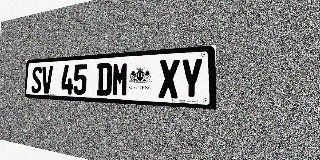4: (61, 65, 74, 95)
5: (73, 64, 87, 95)
D: (96, 63, 112, 96)
M: (112, 62, 129, 97)
S: (31, 66, 42, 93)
V: (41, 66, 53, 94)
X: (158, 59, 180, 99)
Y: (180, 58, 203, 100)
